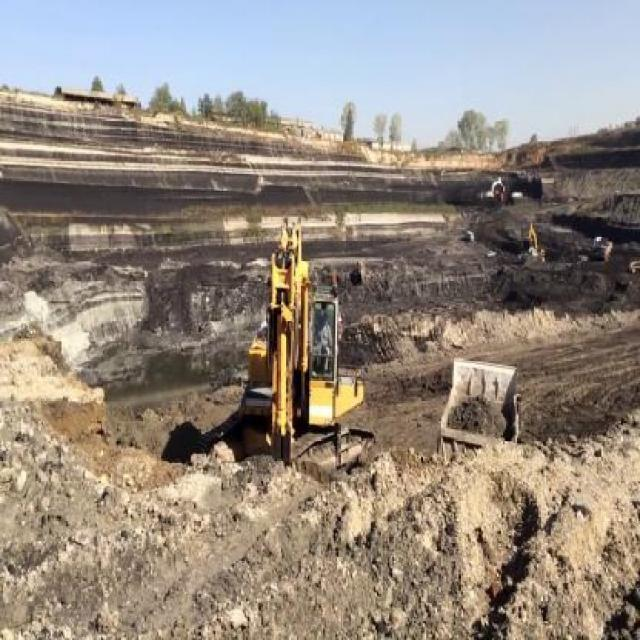Dump Truck: (438, 356, 519, 455)
Excavator: (238, 209, 374, 483)
